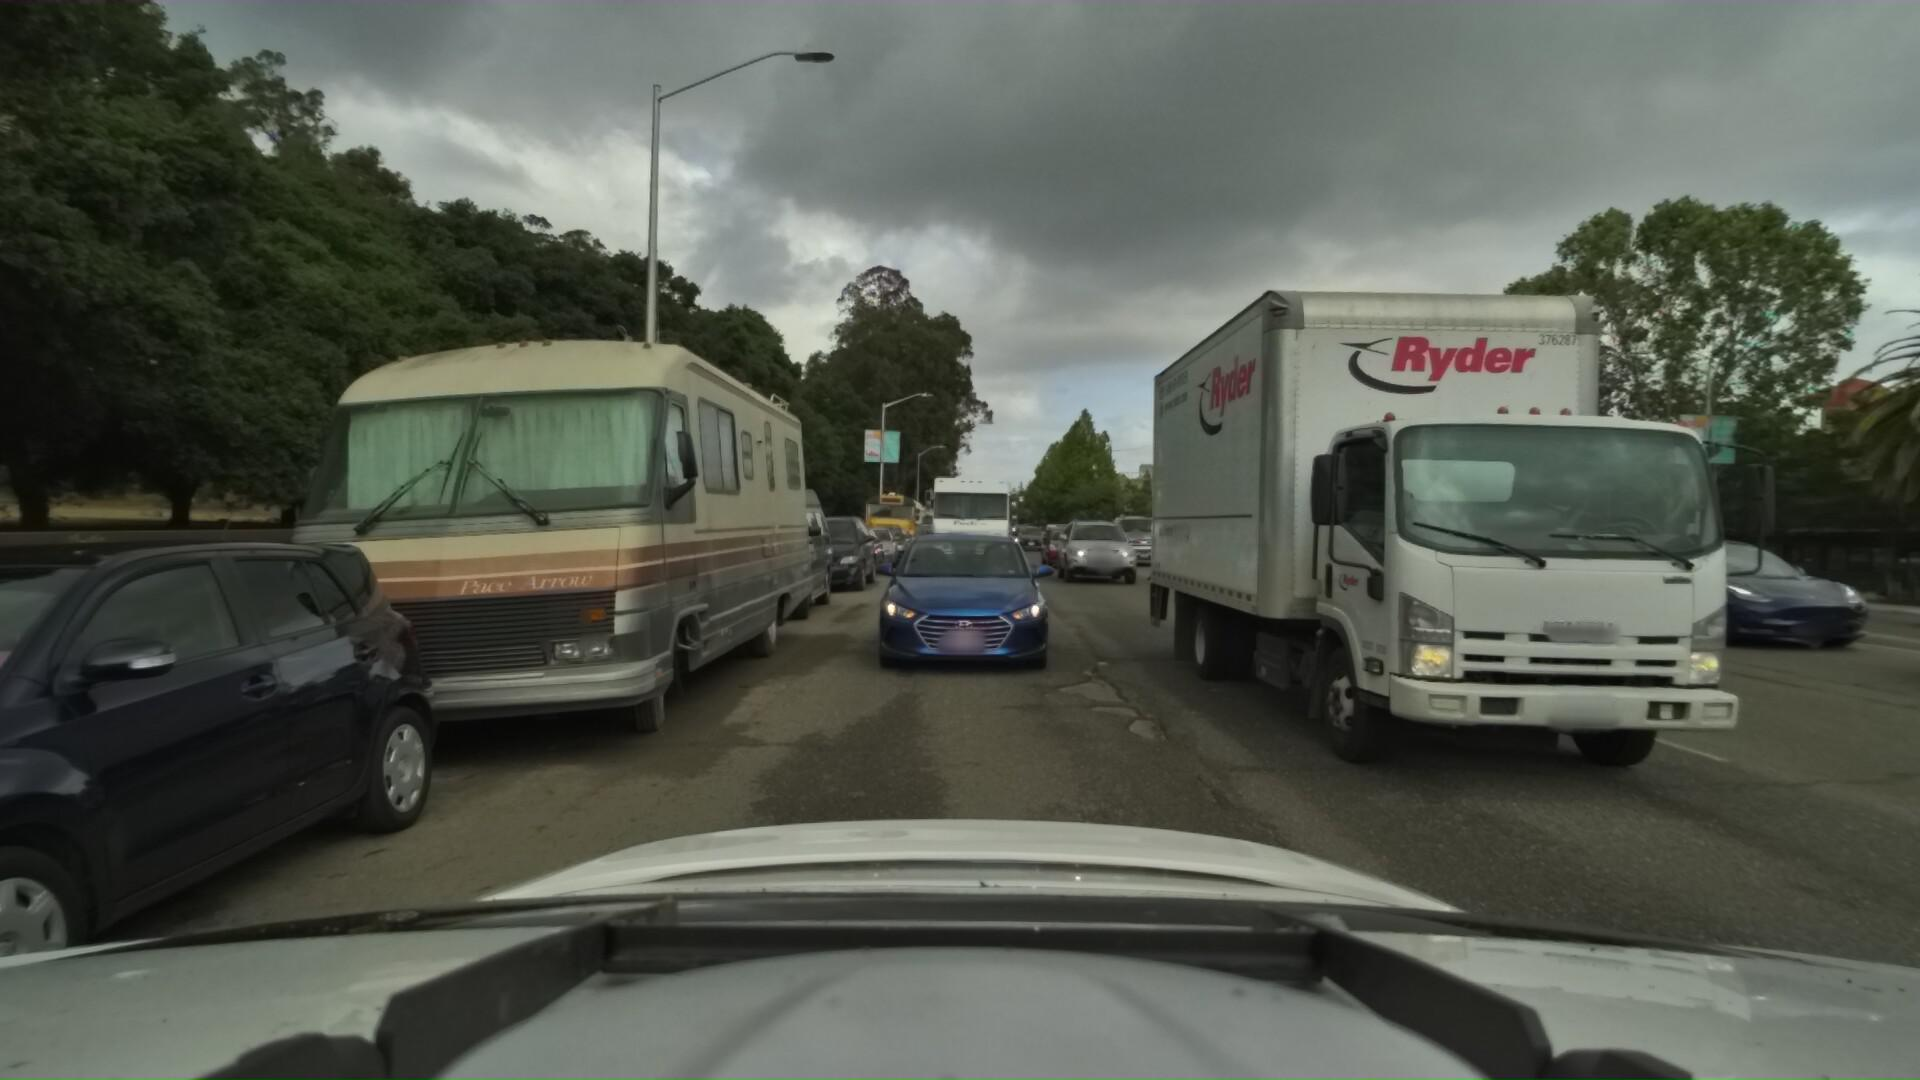bus: (853, 485, 924, 558)
car: (0, 524, 477, 1080), (1534, 539, 1859, 669), (860, 524, 1055, 688), (669, 487, 837, 636), (1346, 524, 1551, 608), (1855, 535, 1920, 790), (782, 514, 880, 600), (1553, 535, 1683, 592), (1050, 512, 1135, 584), (807, 524, 887, 585), (1101, 506, 1167, 564), (843, 524, 899, 571), (1034, 520, 1092, 566), (864, 524, 911, 564), (1007, 520, 1044, 549), (1912, 545, 1920, 645)
other_vehicle: (210, 237, 833, 810), (909, 496, 942, 539)
truck: (1129, 171, 1788, 800), (922, 459, 1015, 578)
